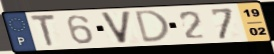2: (178, 10, 207, 40)
6: (65, 14, 97, 45)
7: (209, 7, 235, 40)
D: (134, 9, 173, 45)
T: (29, 13, 59, 49)
V: (98, 10, 133, 46)
